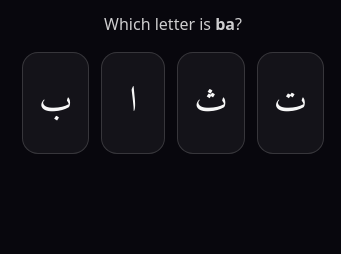
LetterQuiz — letter flavor (formsTaught=false) › first-try correct scores 1 / 1
Expected: the text "Which letter is ba?" is shown, x1=104 y1=13 x2=242 y2=35
Click the button named "choice ب": (56,103) x1=22 y1=52 x2=89 y2=154
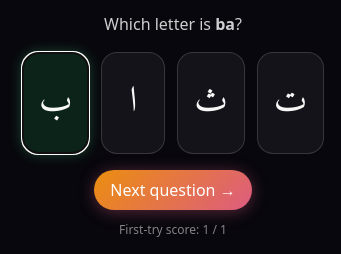
Result: the text "First-try score: 1 / 1" is shown at x1=119 y1=221 x2=227 y2=238
